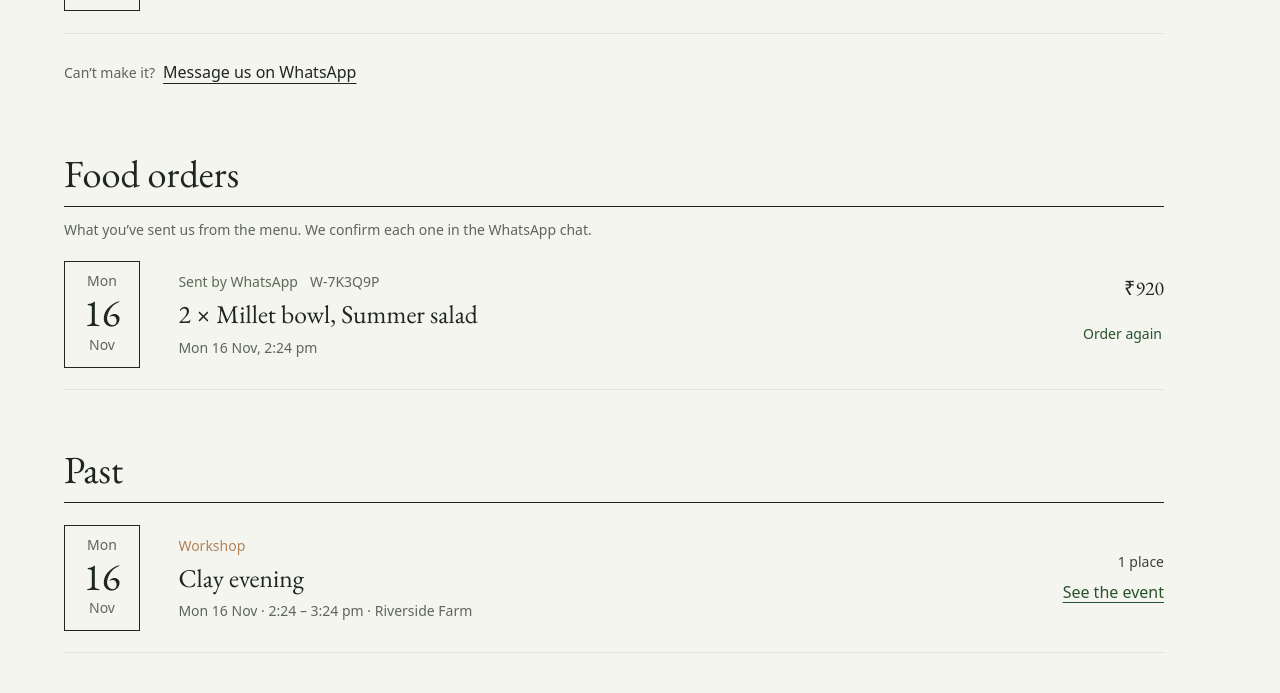
order again: what’s still on the menu goes in the bag at today’s price; the rest is named
(page scrolled)
Click the button "Order again": (1122, 333) [1081,311,1164,355]
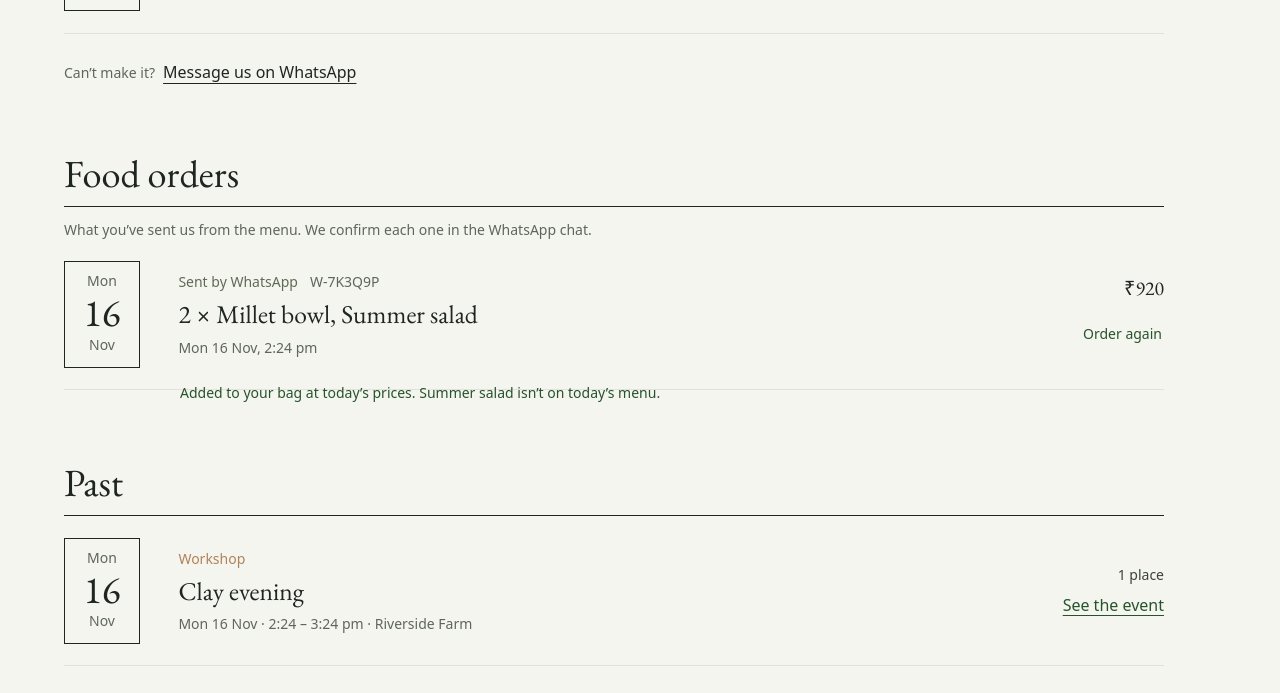
Check: the message with class "ac-note" reads "Added to your bag at today’s prices. Summer salad isn’t on today’s menu.", box [180,383,660,402]
